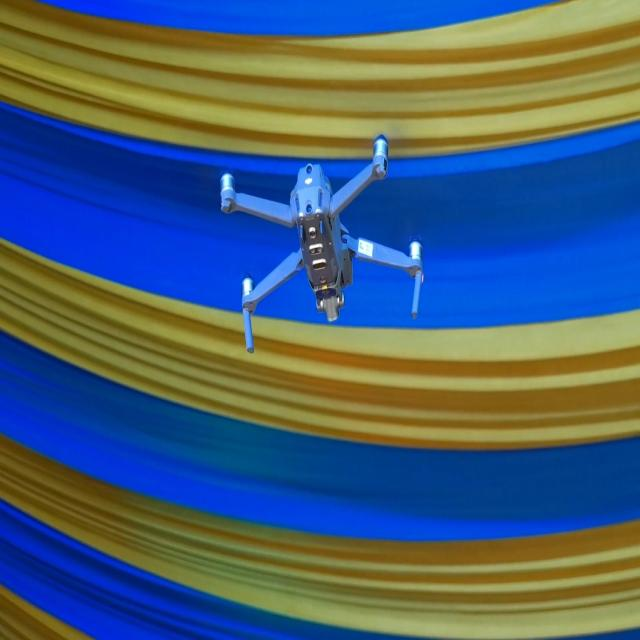Drone: (219, 136, 423, 357)
